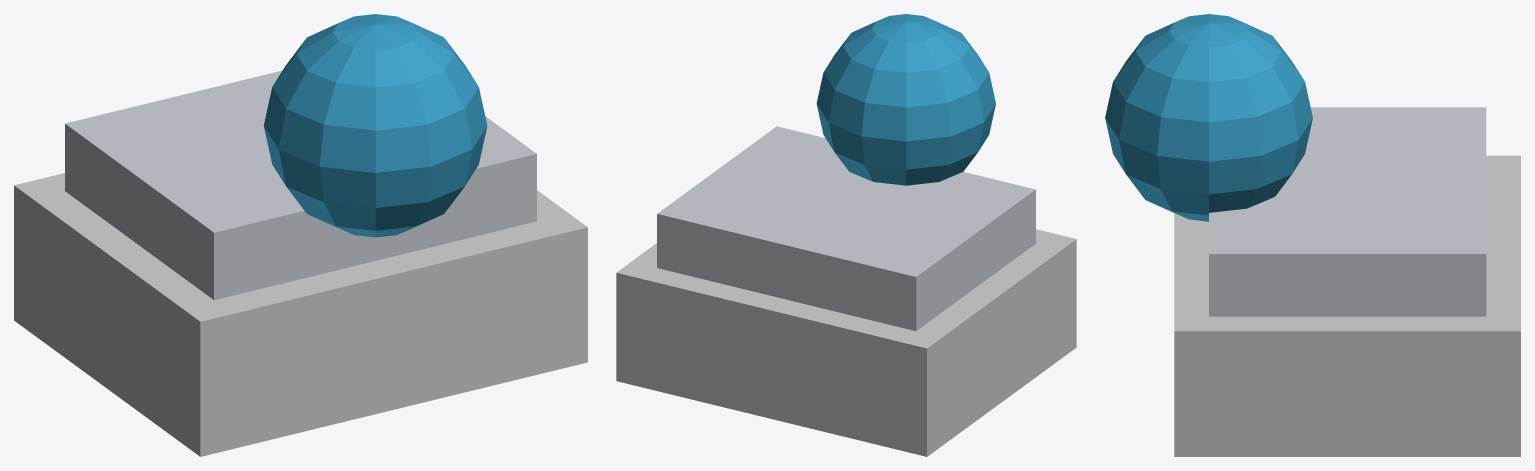
The model's file is guidance_infrared.obj.
3 renders of one model, left to right at view 1: azimuth 30°, elevation 25°; view 2: azimuth 150°, elevation 25°; view 3: azimuth 270°, elevation 25°, orthographic. The views are drawn at different scales.
Visible parts, largest first — view 1: guidance_infrared; view 2: guidance_infrared; view 3: guidance_infrared.
Boxes of the visible parts, bbox=[...] form: guidance_infrared: bbox=[14, 14, 587, 456]; guidance_infrared: bbox=[616, 14, 1076, 456]; guidance_infrared: bbox=[1105, 14, 1520, 456].
Size of the model in its own units: 0.24 by 0.22 by 0.24.
